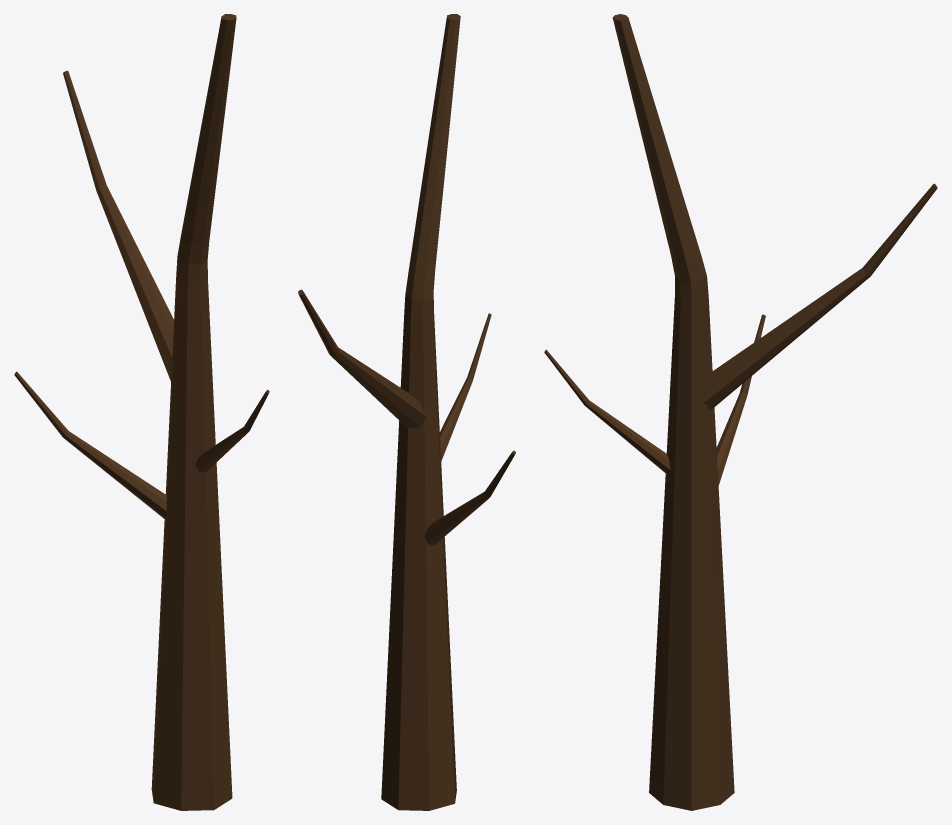
The model's file is Wood 002.fbx.
3 renders of one model, left to right at view 1: azimuth 30°, elevation 25°; view 2: azimuth 150°, elevation 25°; view 3: azimuth 270°, elevation 25°, orthographic. The views are drawn at different scales.
Visible parts, largest first — view 1: Tree 002; view 2: Tree 002; view 3: Tree 002.
Part boxes in pixels (x1,y1,x2,y2): Tree 002: [14, 14, 269, 810]; Tree 002: [298, 14, 515, 810]; Tree 002: [544, 14, 937, 810].
Bounding box in the file's own units: 140 × 600 × 276.
